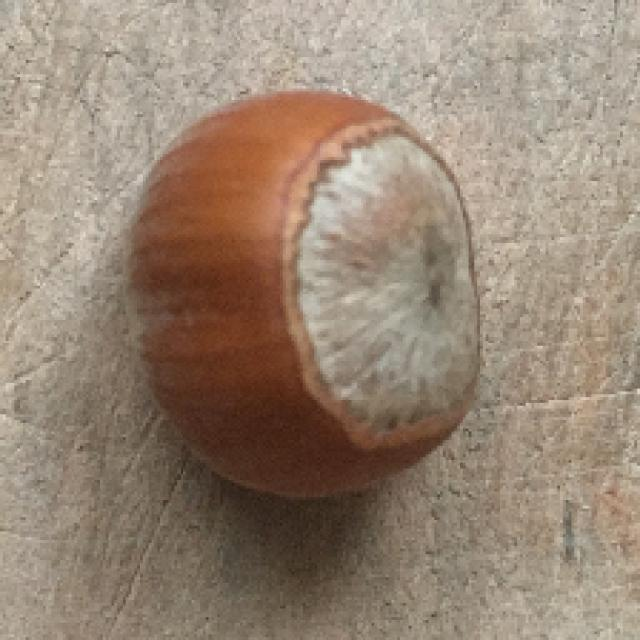qualityHazelnut: (119, 89, 482, 506)
